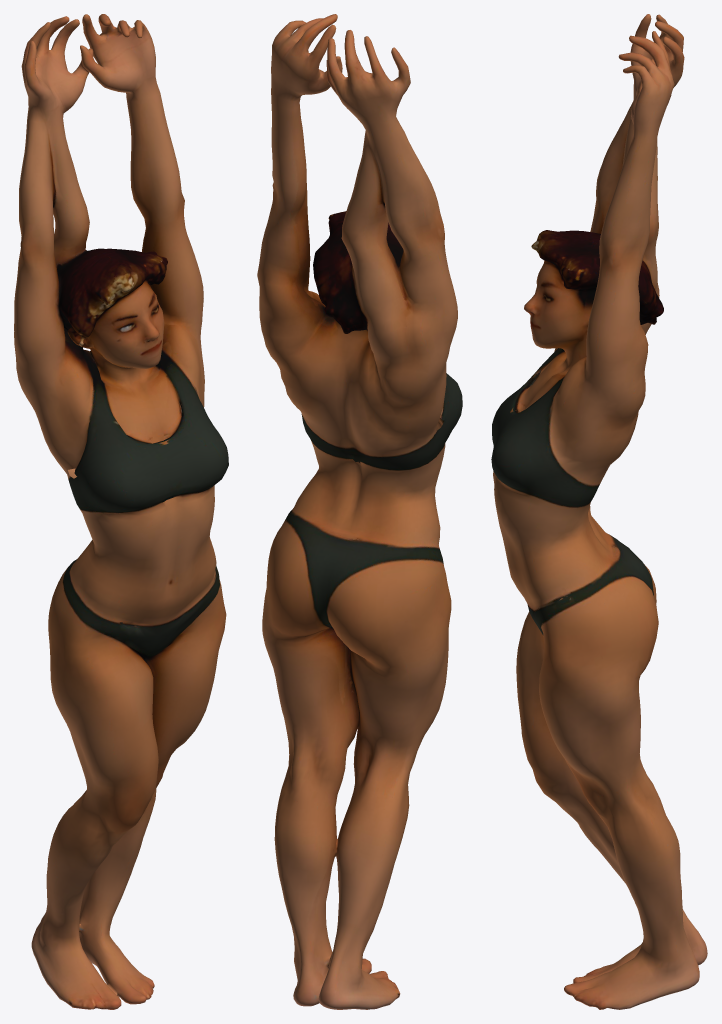
The model's file is female_stretch.glb.
The picture shows the model from 3 angles, left to right: view 1: azimuth 30°, elevation 25°; view 2: azimuth 150°, elevation 25°; view 3: azimuth 270°, elevation 25°; orthographic projection. The views are drawn at different scales.
Parts seen in each view (by area): view 1: tripo_node_db70d5c2-274e-4ff3-a612-9767d2675604; view 2: tripo_node_db70d5c2-274e-4ff3-a612-9767d2675604; view 3: tripo_node_db70d5c2-274e-4ff3-a612-9767d2675604.
Boxes of the visible parts, left/top/right/bottom form: tripo_node_db70d5c2-274e-4ff3-a612-9767d2675604: left=14, top=14, right=228, bottom=1009; tripo_node_db70d5c2-274e-4ff3-a612-9767d2675604: left=257, top=14, right=462, bottom=1009; tripo_node_db70d5c2-274e-4ff3-a612-9767d2675604: left=491, top=14, right=707, bottom=1009.
Size of the model in its own units: 0.4237 by 2.07 by 0.4217.
1 material, 1 textured.
